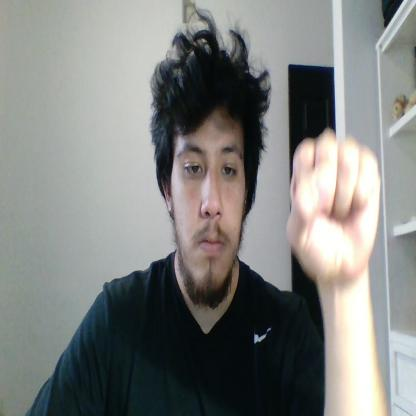S: (288, 128, 380, 279)
